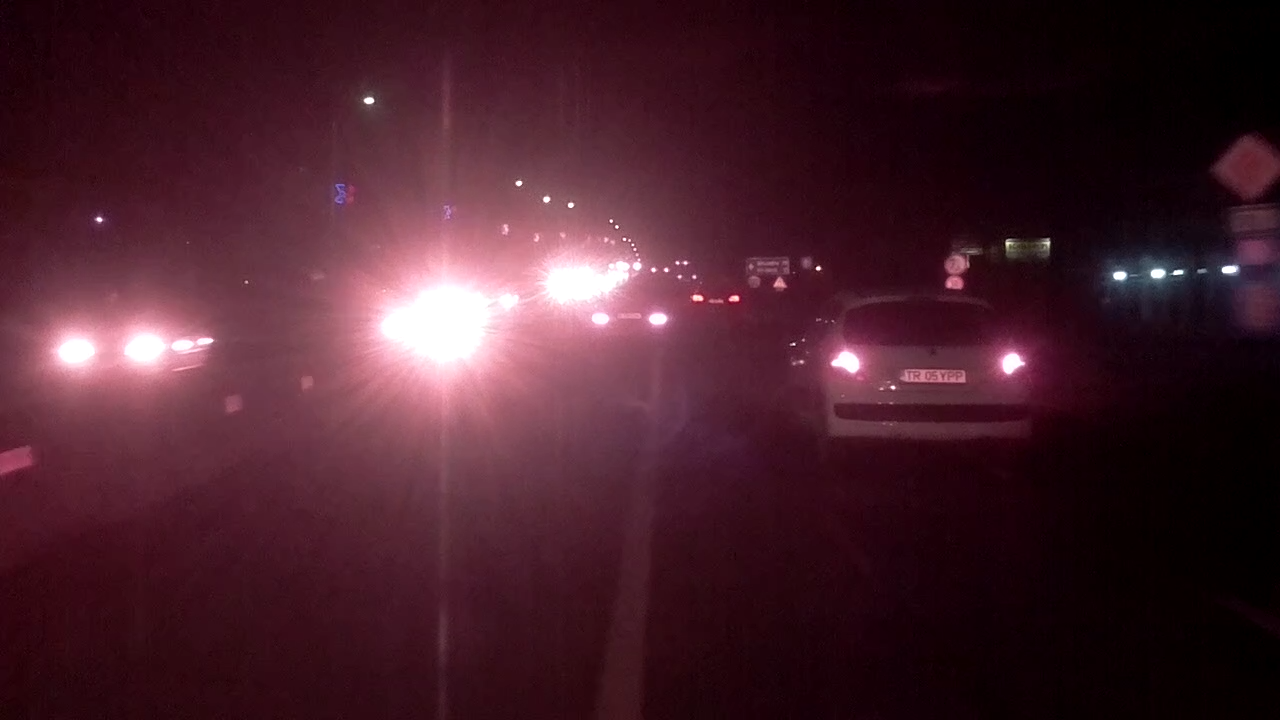license-plate: (897, 364, 970, 386)
